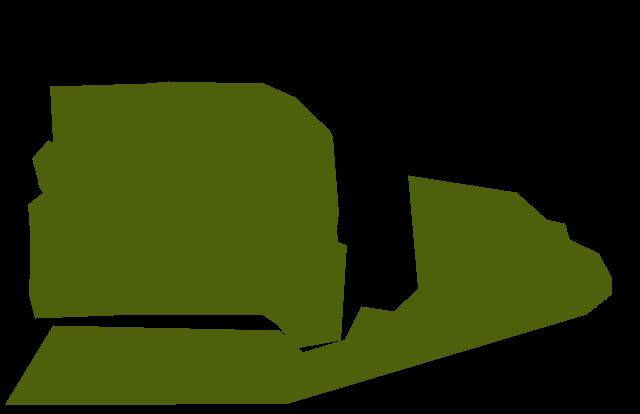Train: (5, 175, 612, 404), (28, 81, 347, 348)
